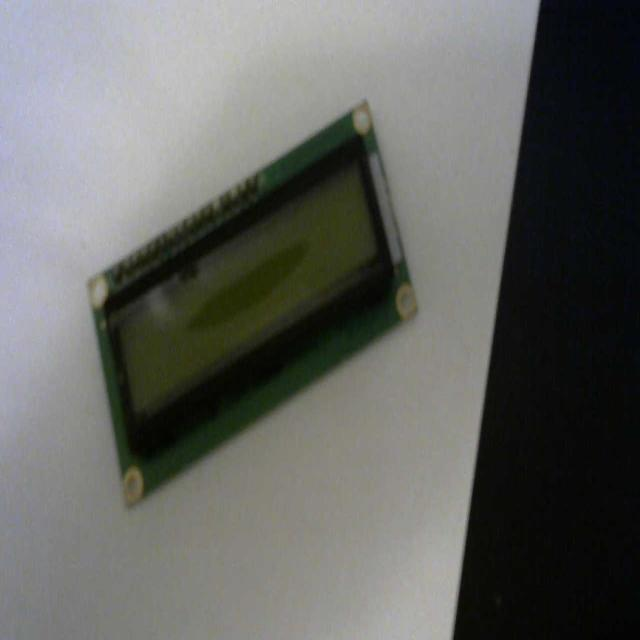lcd: (86, 97, 418, 507)
